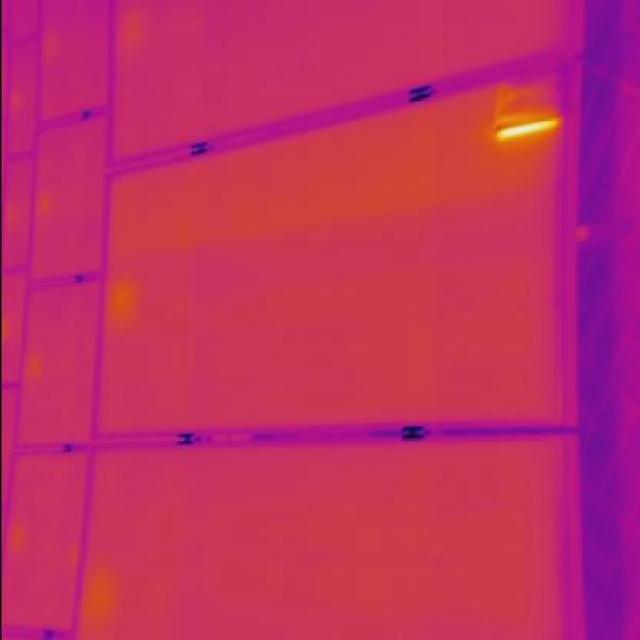hotspot: (490, 67, 567, 155)
